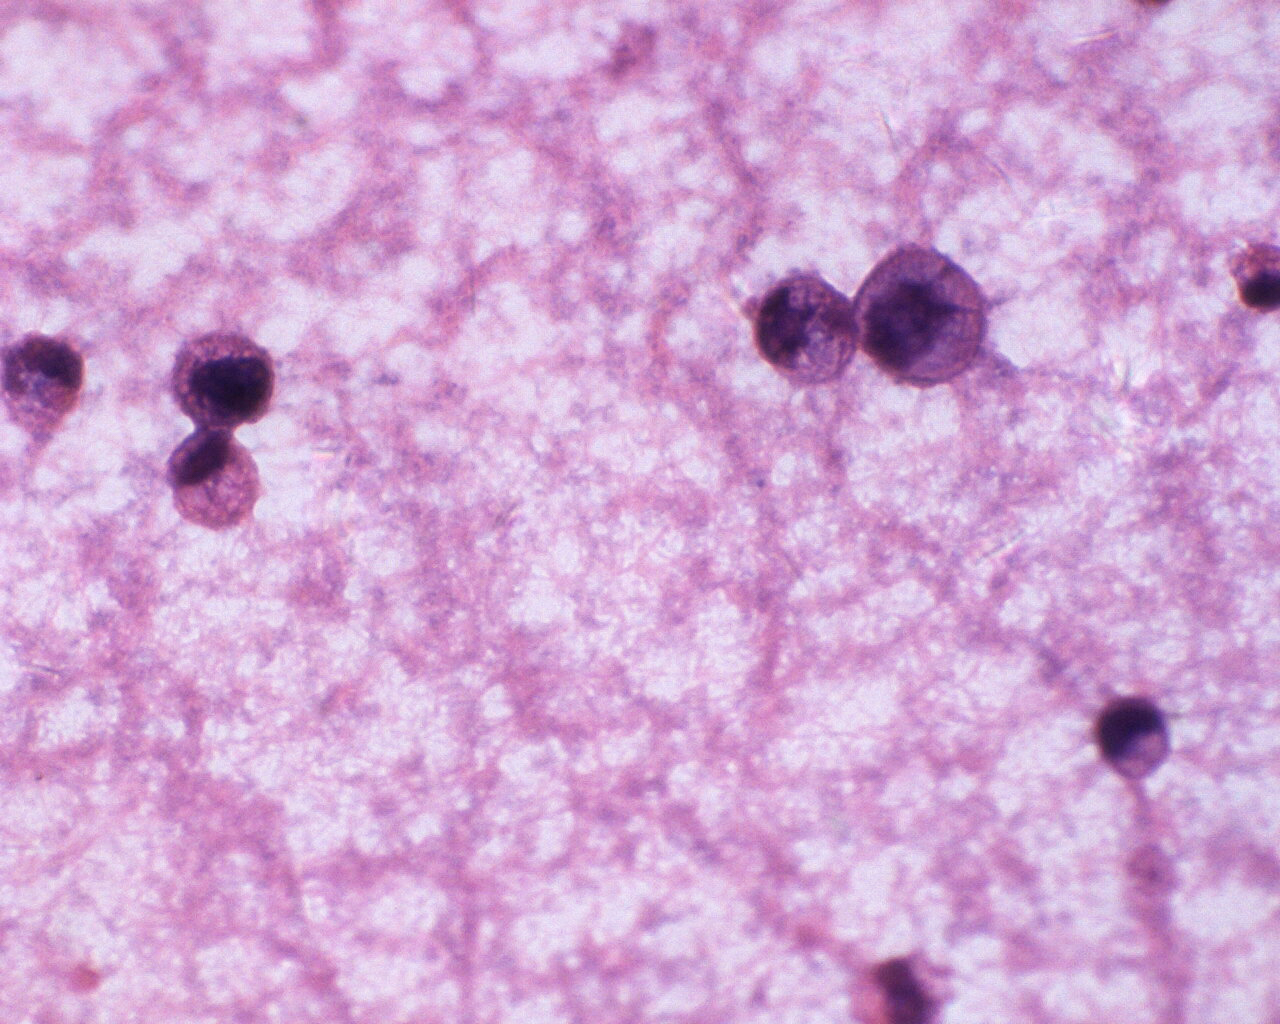ab: (854, 243, 990, 398), (746, 270, 863, 388), (168, 329, 280, 432), (1090, 696, 1178, 792)
histo: (163, 425, 265, 532)
